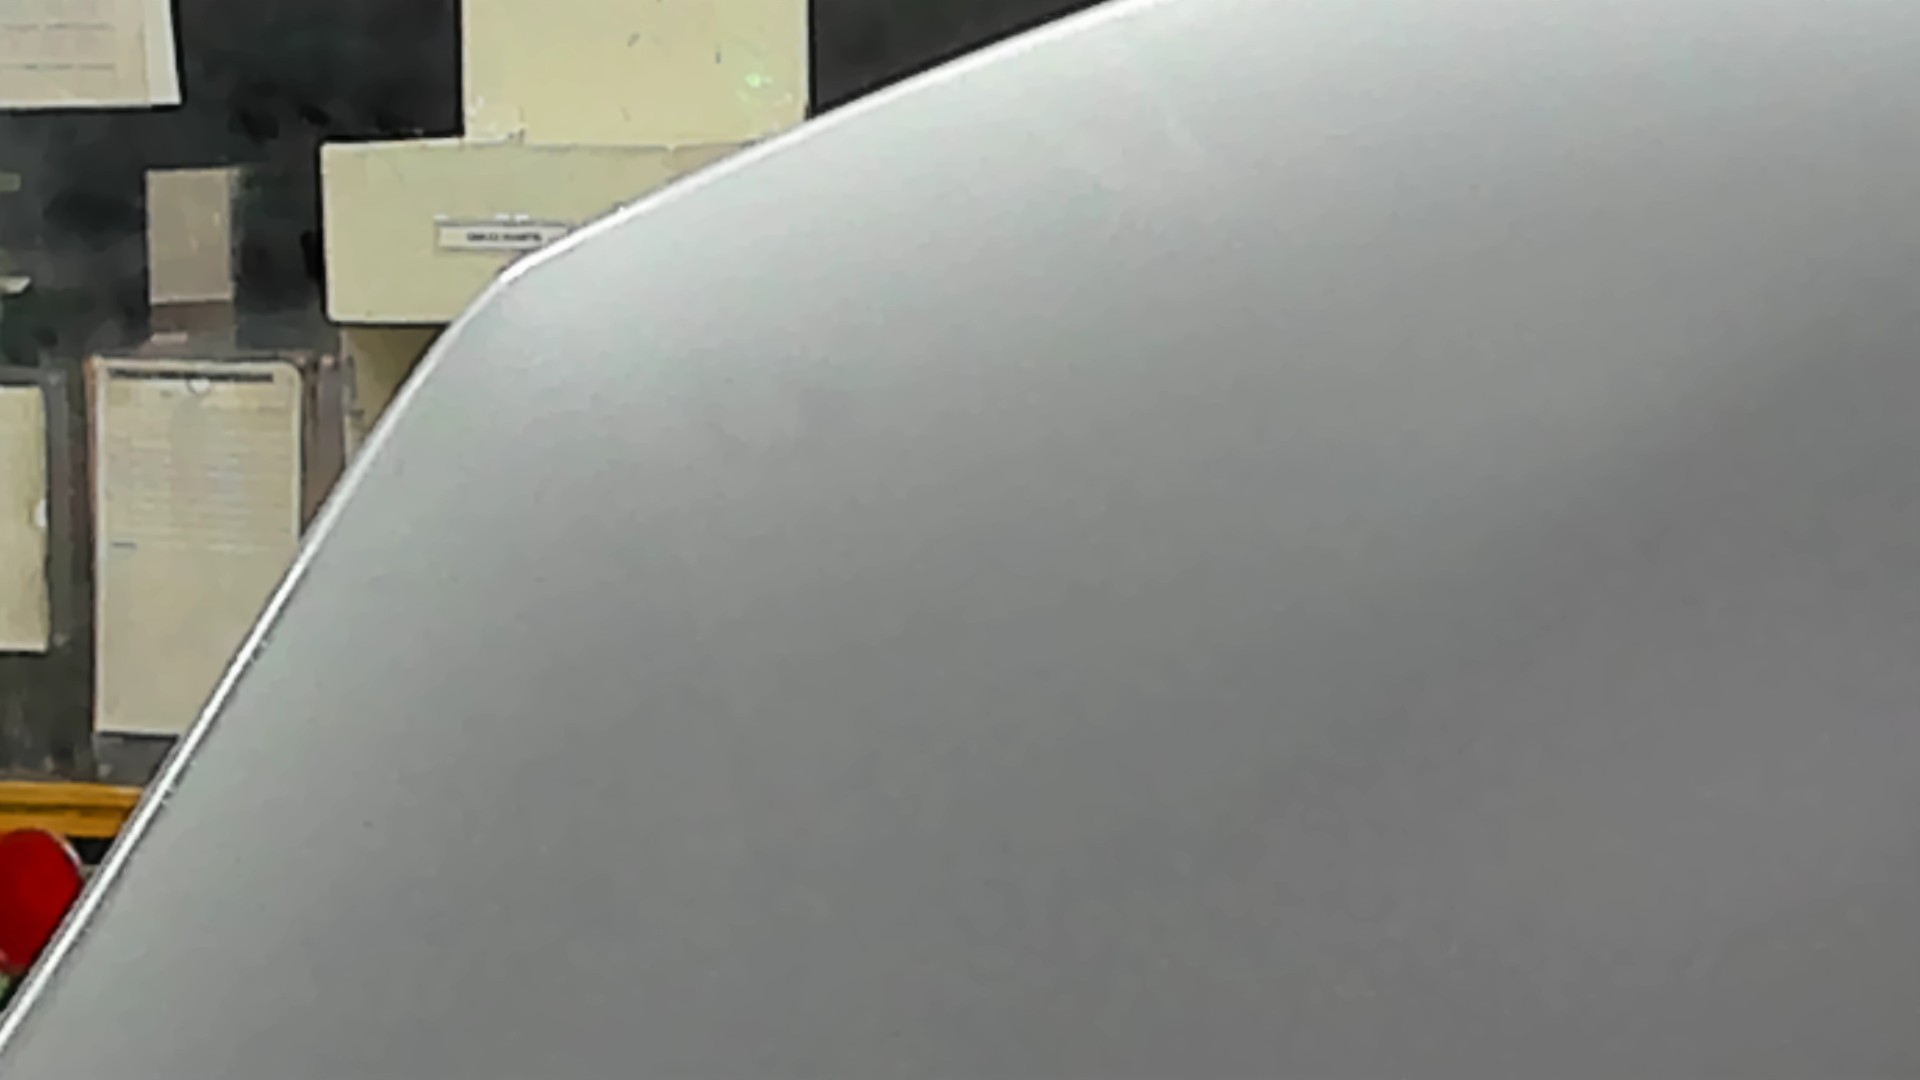capo: (858, 142, 1920, 1080)
